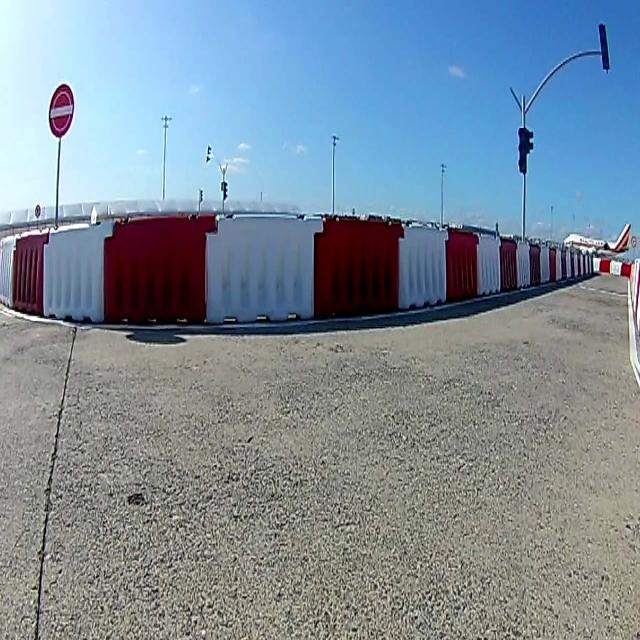girisyok: (49, 84, 74, 138)
